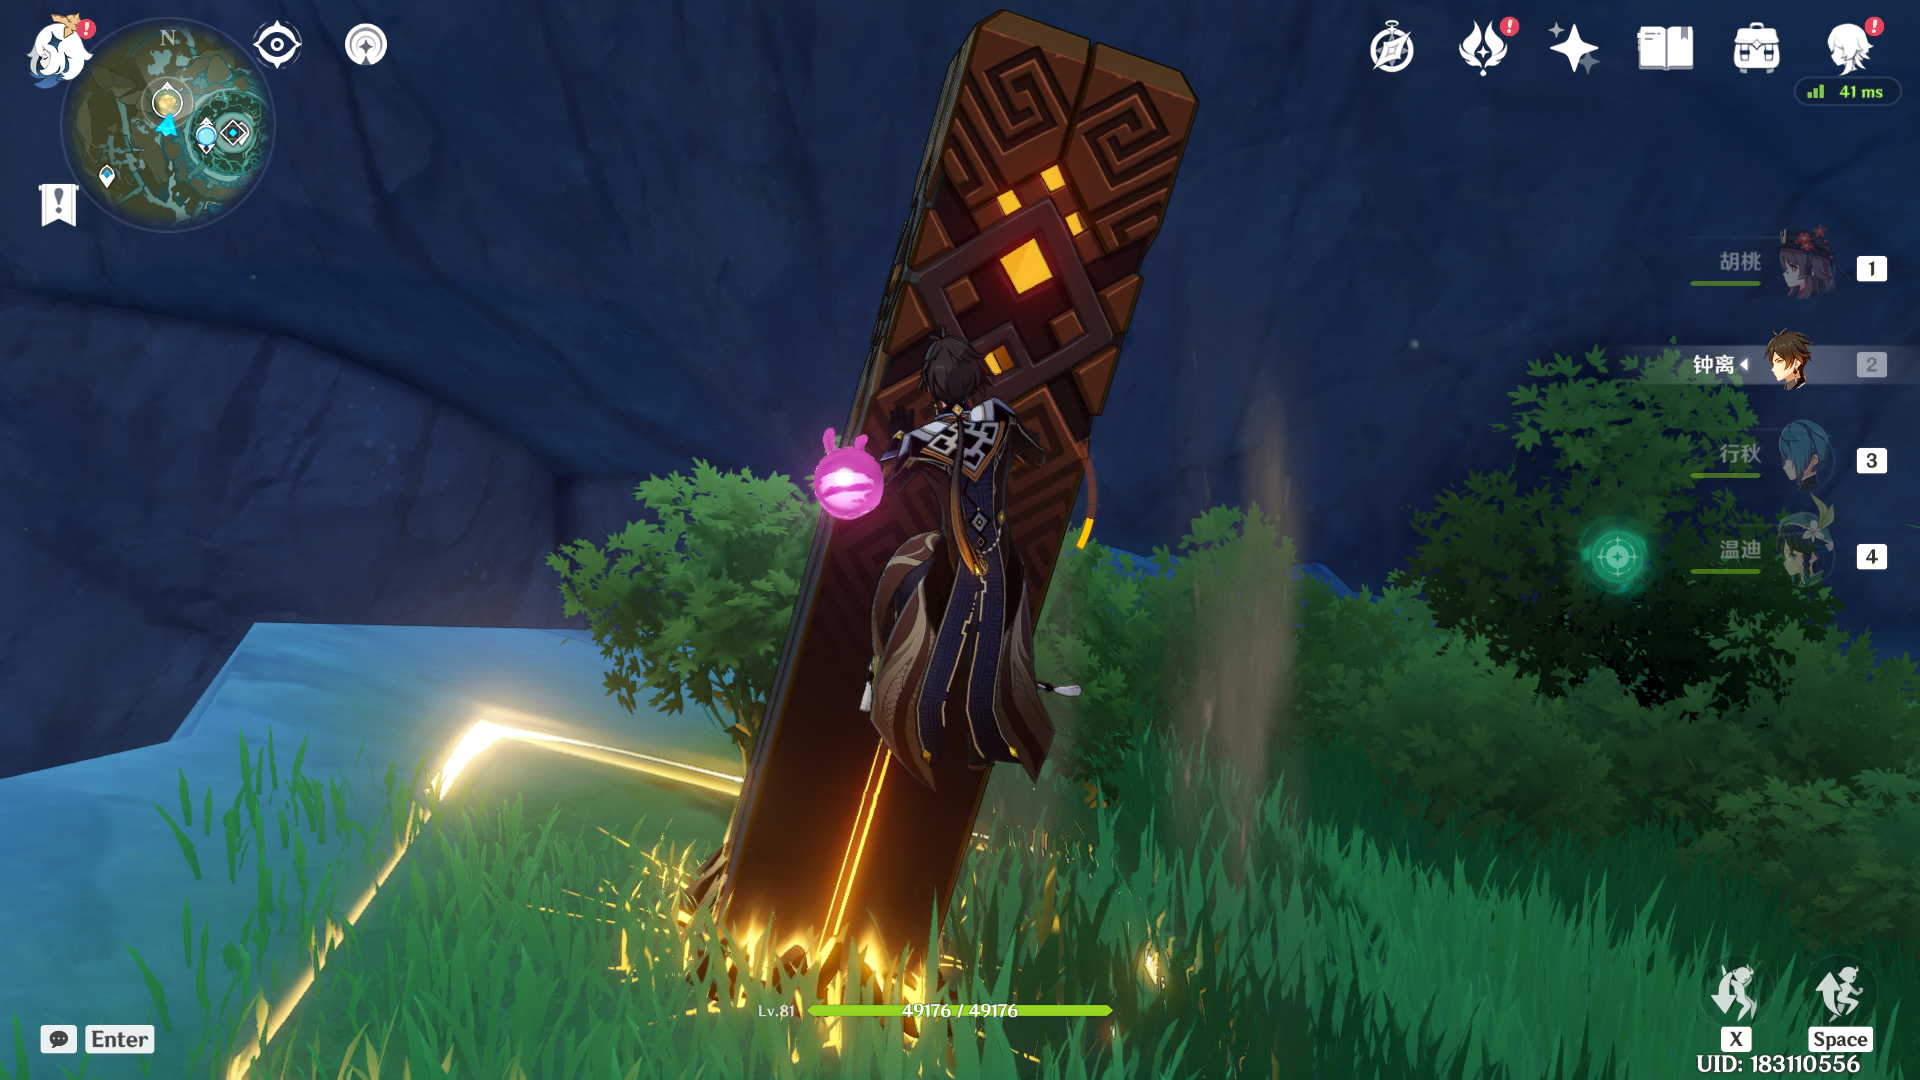character: (793, 305, 1155, 819)
